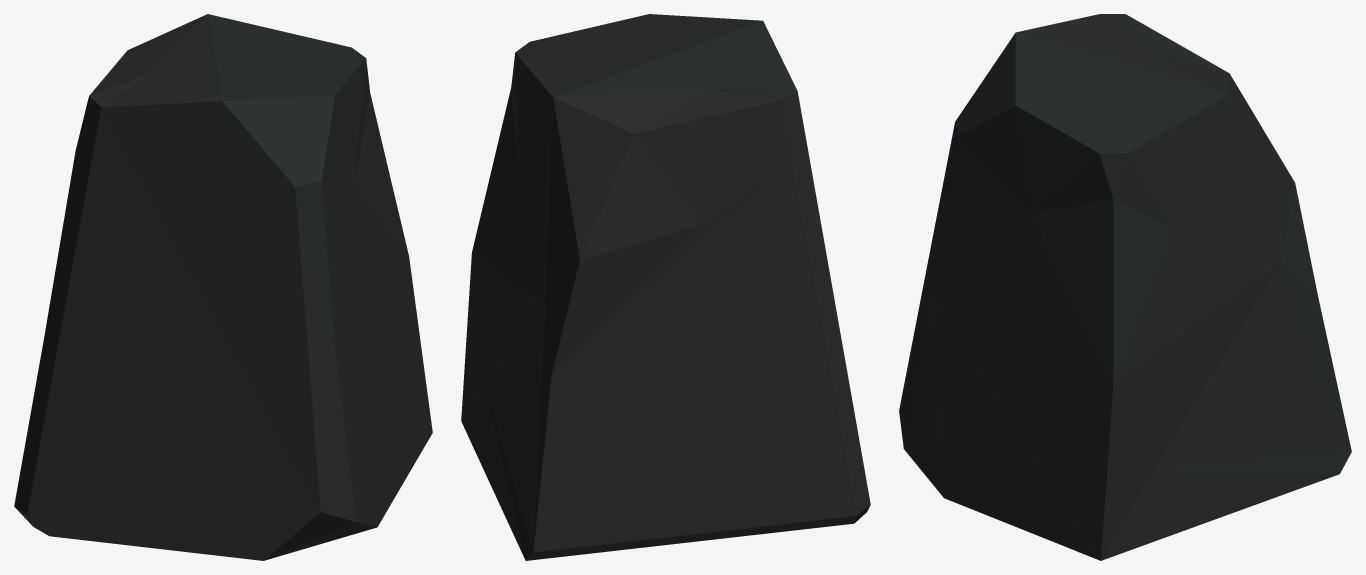
File: Portal_02_Fragment_A.FBX
The picture shows the model from 3 angles, left to right: view 1: azimuth 30°, elevation 25°; view 2: azimuth 150°, elevation 25°; view 3: azimuth 270°, elevation 25°; orthographic projection. The views are drawn at different scales.
Parts seen in each view (by area): view 1: Portal_02_Fragment_A; view 2: Portal_02_Fragment_A; view 3: Portal_02_Fragment_A.
Part boxes in pixels (<box>): Portal_02_Fragment_A: <box>14,14,432,560</box>; Portal_02_Fragment_A: <box>461,14,870,560</box>; Portal_02_Fragment_A: <box>899,14,1351,560</box>.
Bounding box in the file's own units: 1.04 × 1.04 × 1.04.
